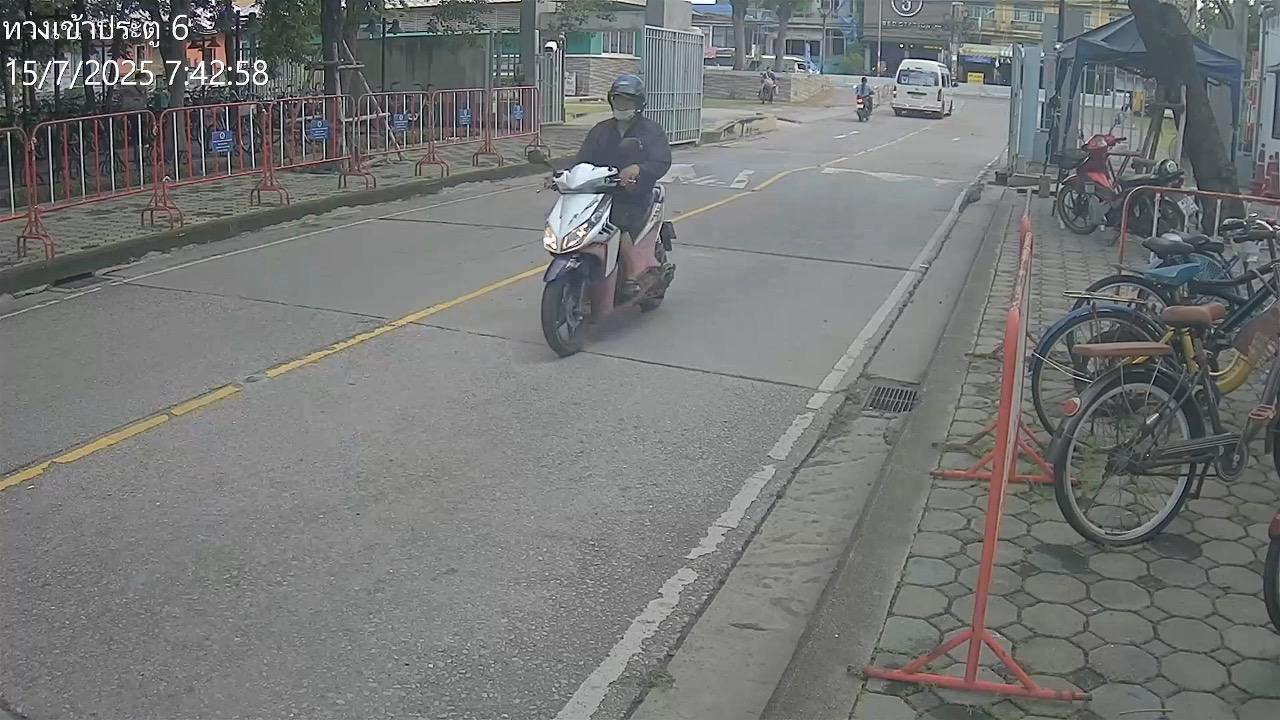With-Helmet: (608, 74, 648, 117)
